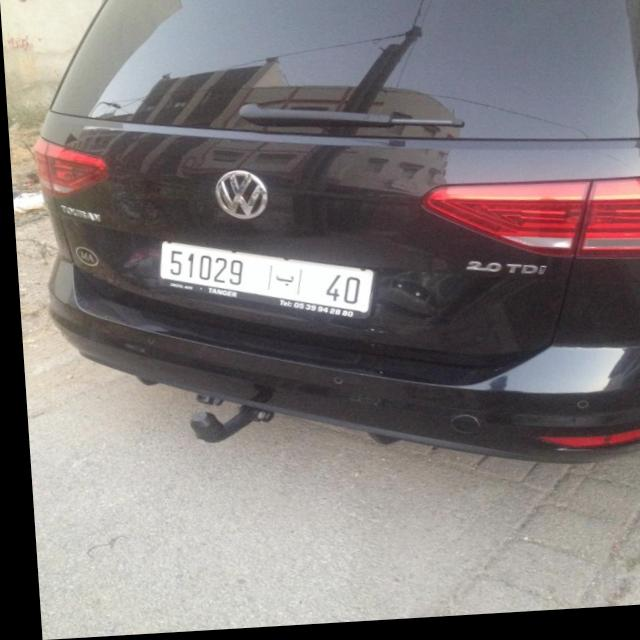License-Plate: (157, 243, 369, 320)
